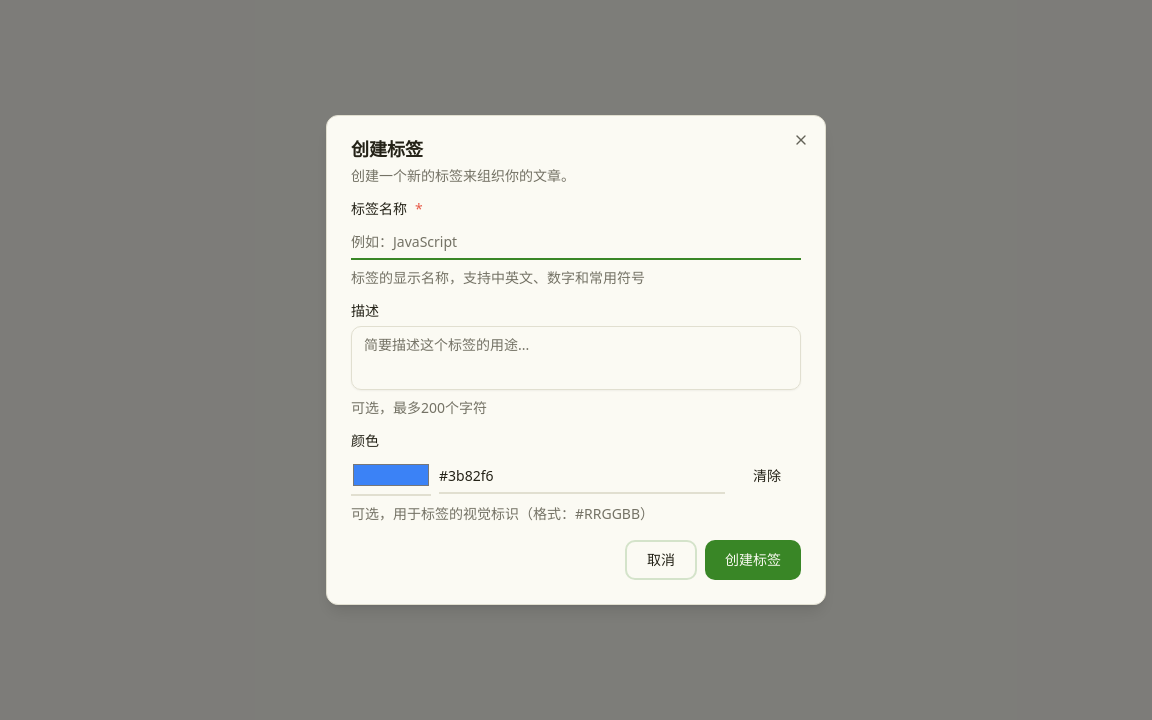
Test: TagDialog › 创建模式 › 应该验证颜色格式
Type "Test" into the field labelled "标签名称 *".
click(576, 242); type("Test")  # box [351, 224, 801, 260]
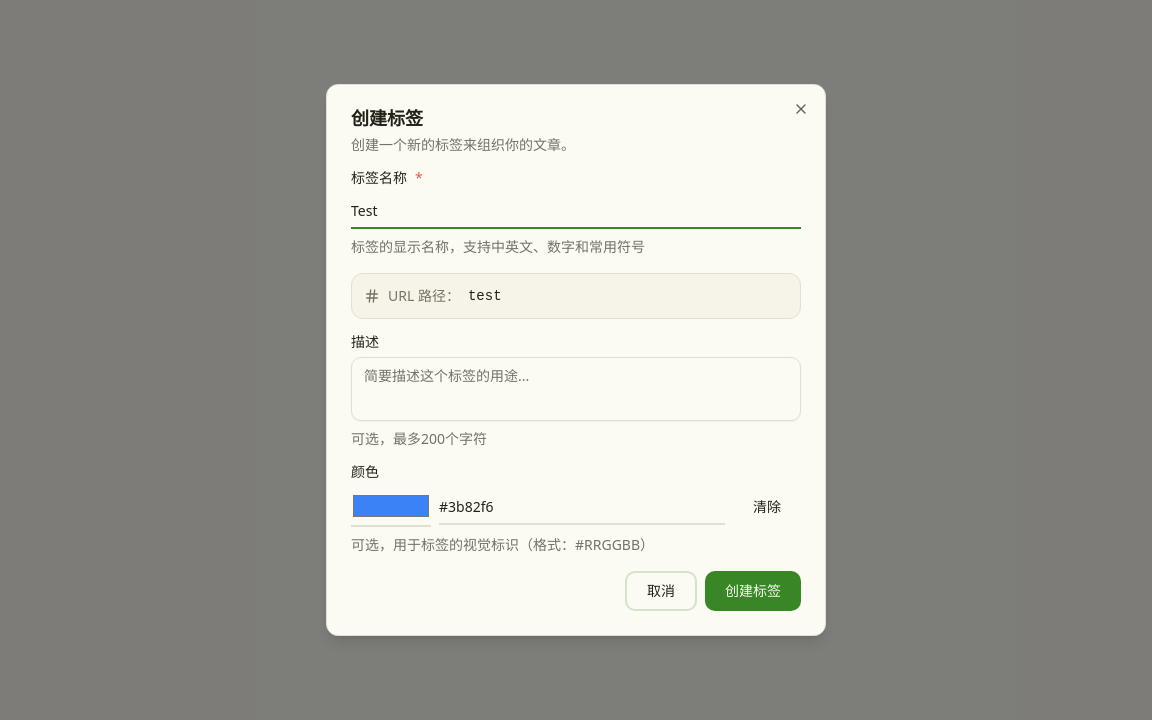
Type "invalid-color" into the 2nd field.
click(582, 507); type("invalid-color")  # box [439, 489, 725, 525]
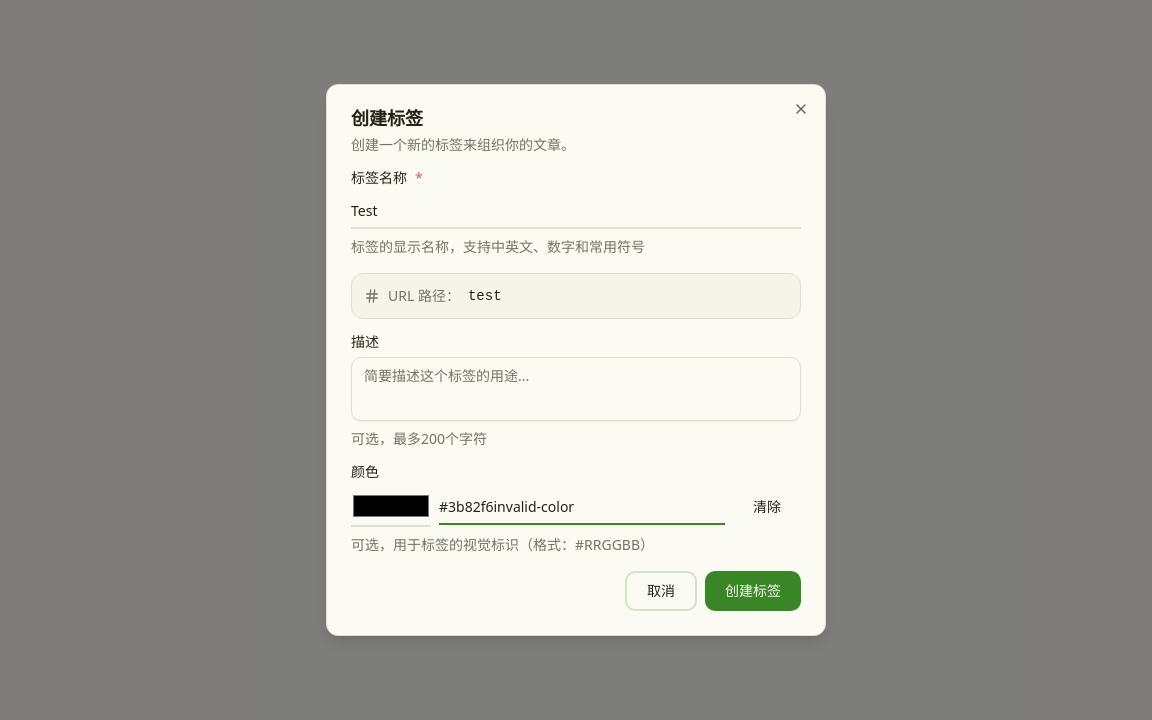
Click the button "创建标签".
click(753, 591)  # box [705, 571, 801, 611]
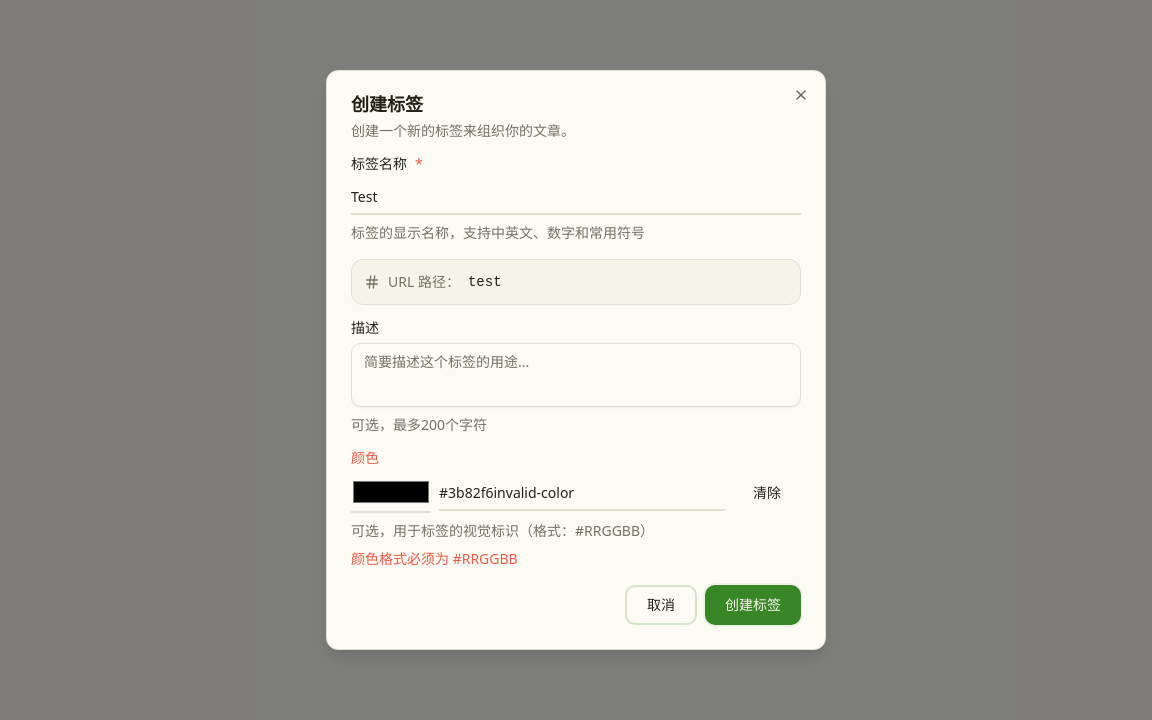
Expected: the text "颜色格式必须为 #RRGGBB" is shown, [351, 549, 518, 568]
